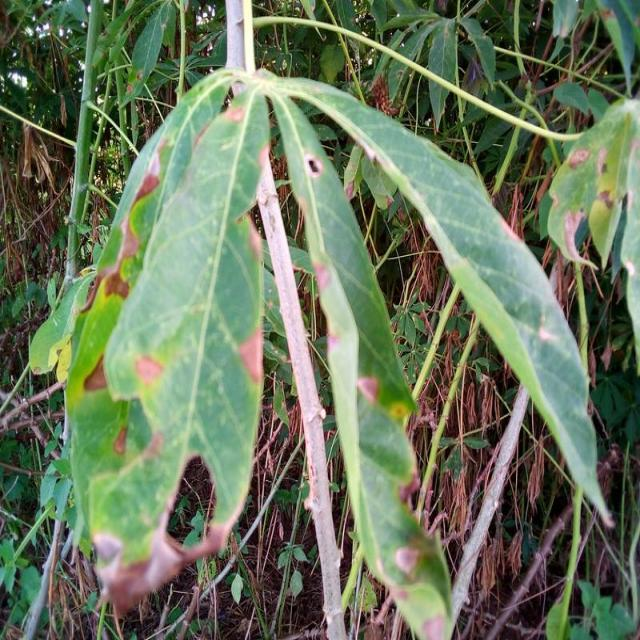cassava leaf: (256, 72, 614, 531), (62, 68, 269, 573)
